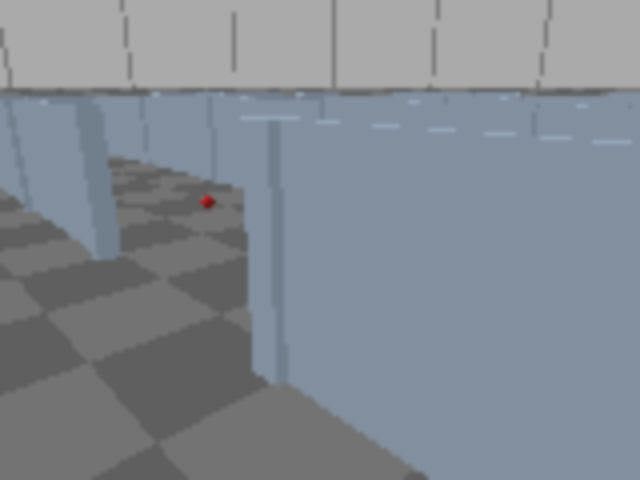puck: (199, 194, 217, 211)
